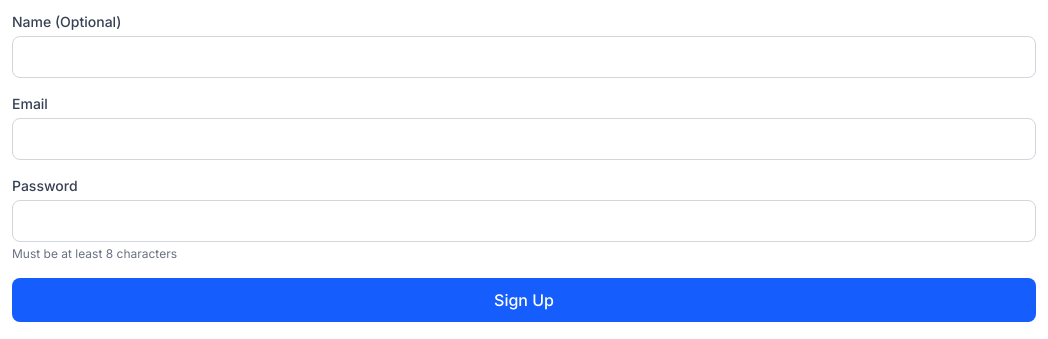
SignupForm Component › disables form during submission
Type "test@example.com" into the field labelled "Email".
click(524, 139); type("test@example.com")  # box [12,118,1036,160]
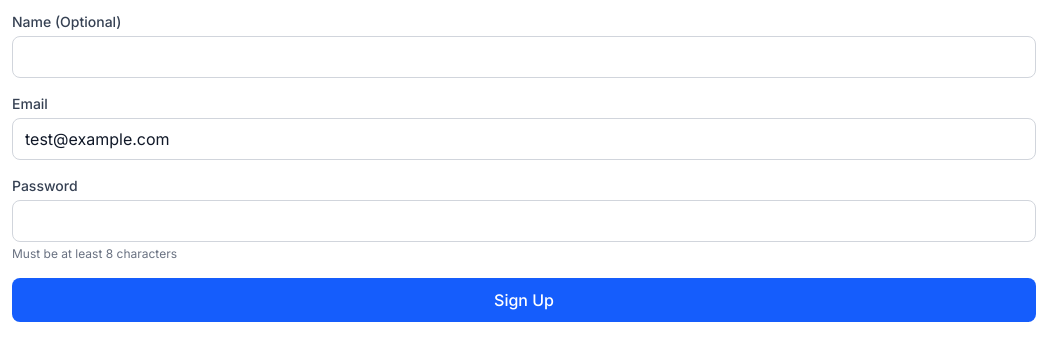
Type "password123" into the password field labelled "Password".
click(524, 221); type("password123")  # box [12,200,1036,242]
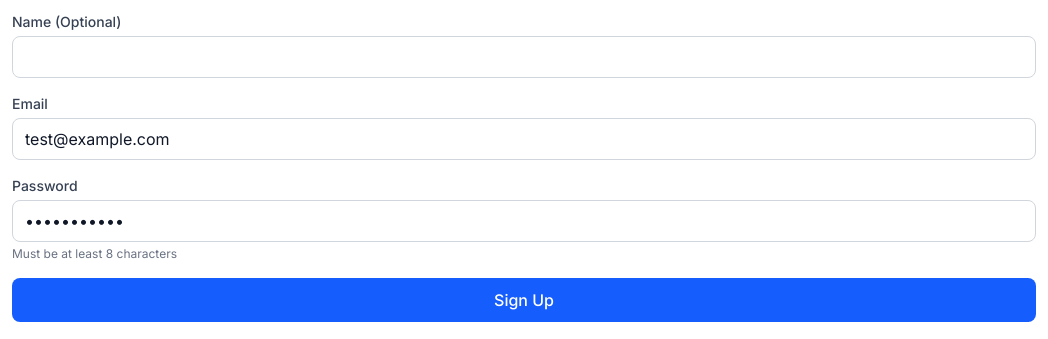
Click the button "Sign Up".
click(524, 300)  # box [12,278,1036,322]
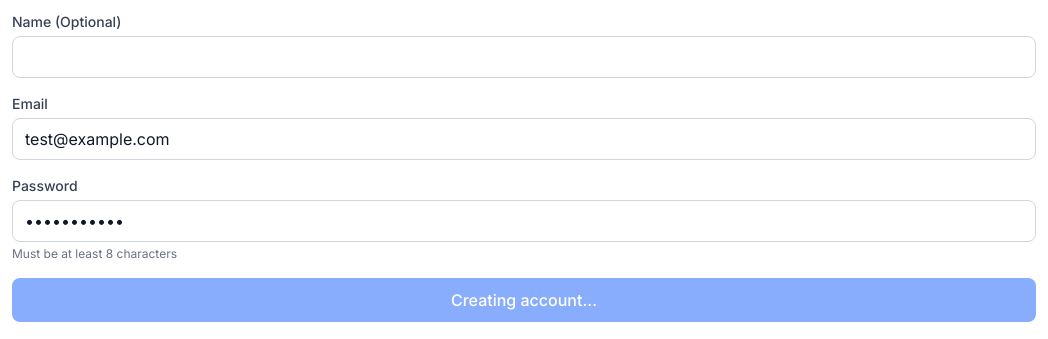
expect the field labelled "Email" is disabled: met, box [12,118,1036,160]
expect the button named "sign up" is disabled: met, box [12,278,1036,322]
